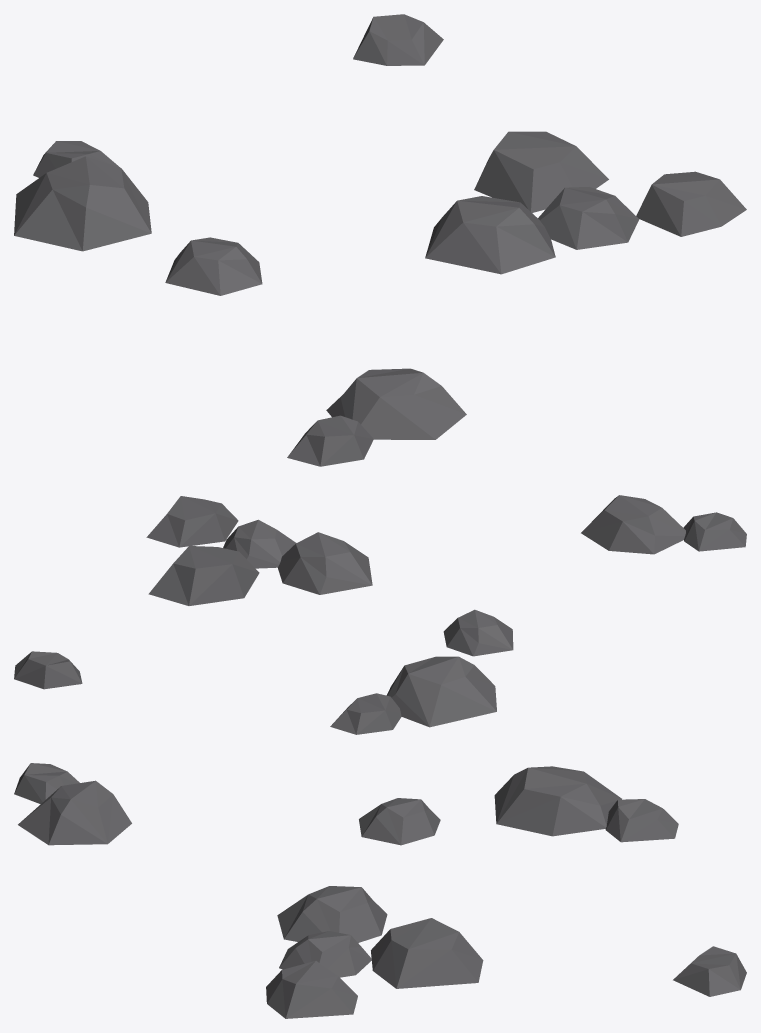
The model's file is SM_Env_Rocks_01.glb.
The picture shows the model from 3 angles, top to bottom: view 1: azimuth 30°, elevation 25°; view 2: azimuth 150°, elevation 25°; view 3: azimuth 270°, elevation 25°; orthographic projection. The views are drawn at different scales.
Visible parts, largest first — view 1: SM_Env_Rocks_01_part00; view 2: SM_Env_Rocks_01_part00; view 3: SM_Env_Rocks_01_part00.
Part boxes in pixels (x1,y1,x2,y2): SM_Env_Rocks_01_part00: (14, 14, 746, 466); SM_Env_Rocks_01_part00: (14, 495, 746, 734); SM_Env_Rocks_01_part00: (14, 763, 746, 1018).
Size of the model in its own units: 2.73 by 0.1982 by 3.41.
1 material, 1 textured.
